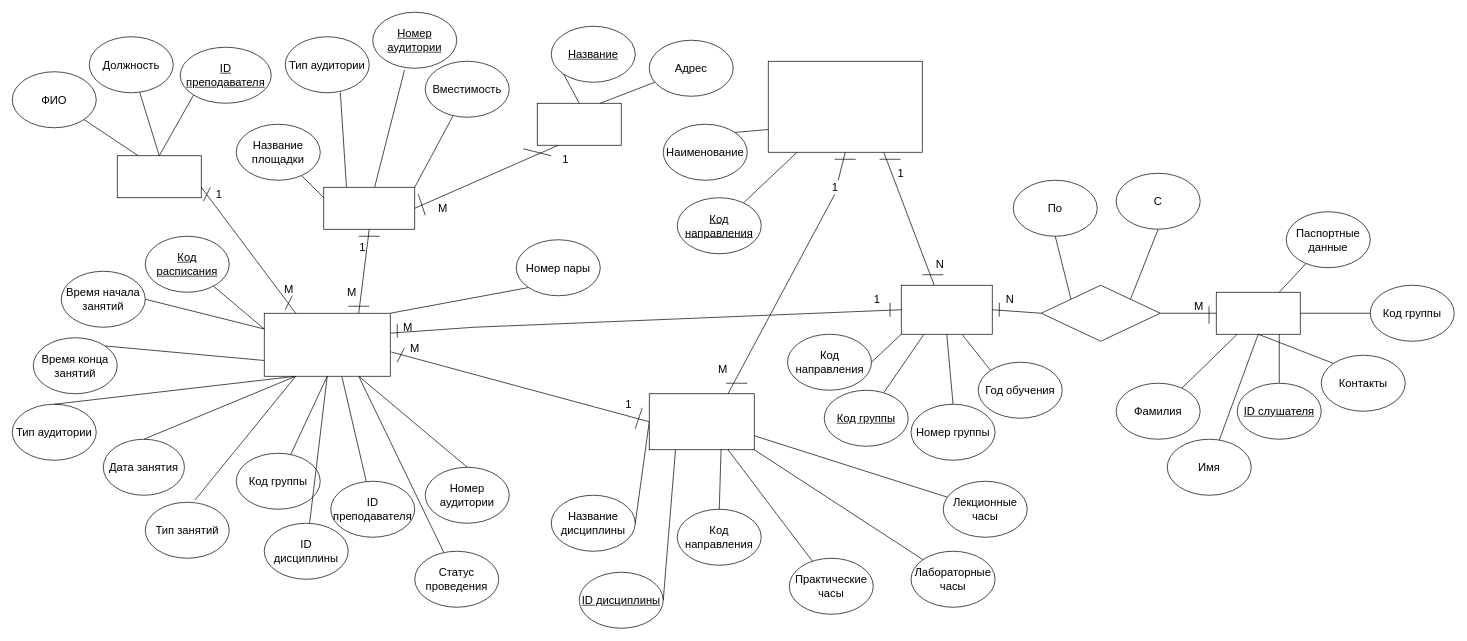
Image size: 1467x641. Some labels were removed from this diagram. The shapes that lost their labels are listed below. From the top down, each one's centre as x and y in pixels, then its label:
At (x=579, y=124): "Площадка проведения".
At (x=845, y=106): "Направление".
At (x=159, y=176): "Преподаватель".
At (x=369, y=208): "Аудитория".
At (x=946, y=309): "Группа".
At (x=1100, y=313): "Обучаются".
At (x=1258, y=313): "Слушатель".
At (x=327, y=344): "Расписание".
At (x=701, y=421): "Дисциплины".
